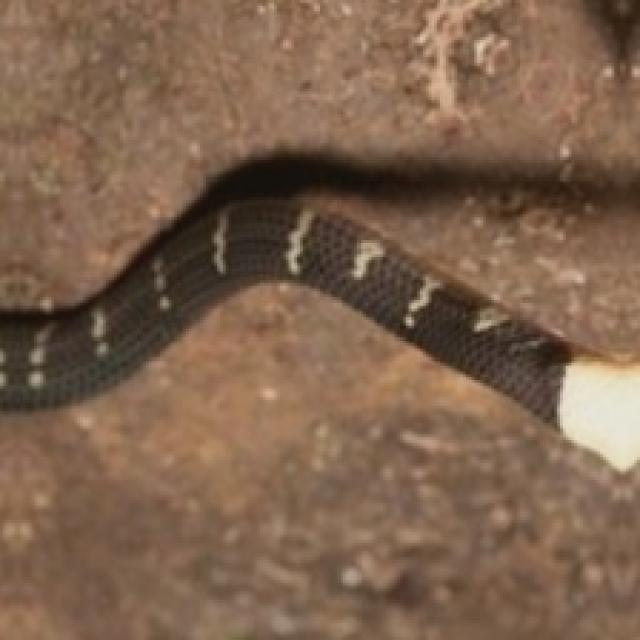gunthers philippine shrub snake: (0, 200, 640, 468)
